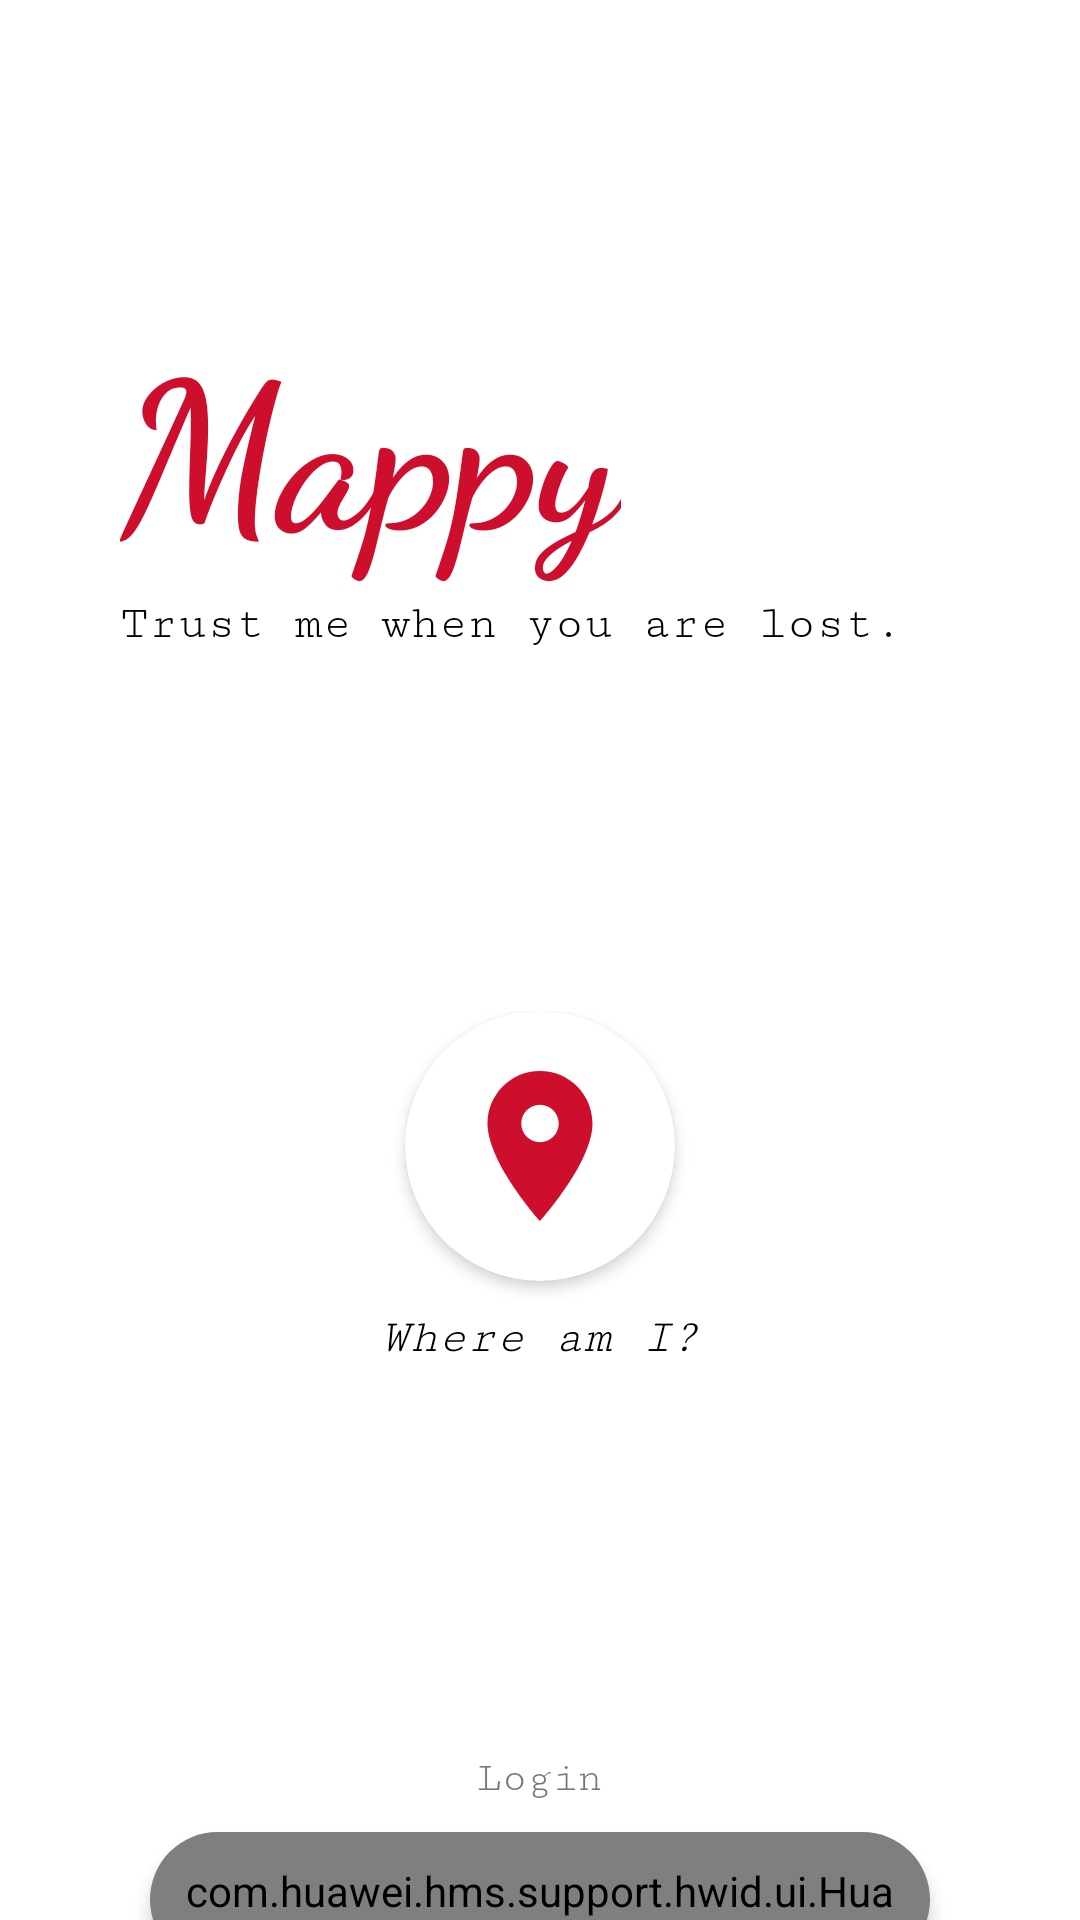

Named icons in this screenshot (1080 × 1920) and their centers, point (x, y):
location on: point (540, 1146)
